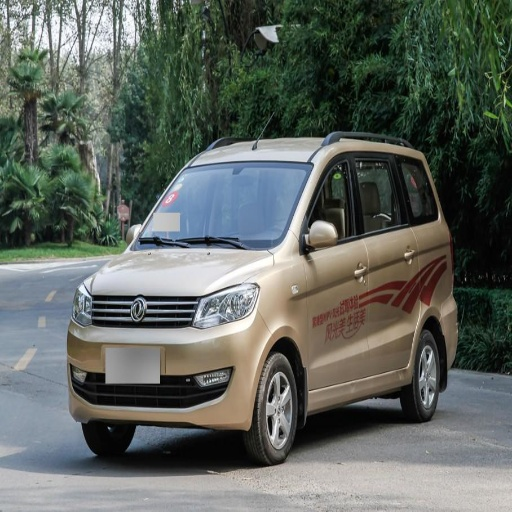front_bumper: (69, 295, 270, 428)
front_glass: (137, 165, 313, 248)
front_left_door: (301, 151, 375, 396)
